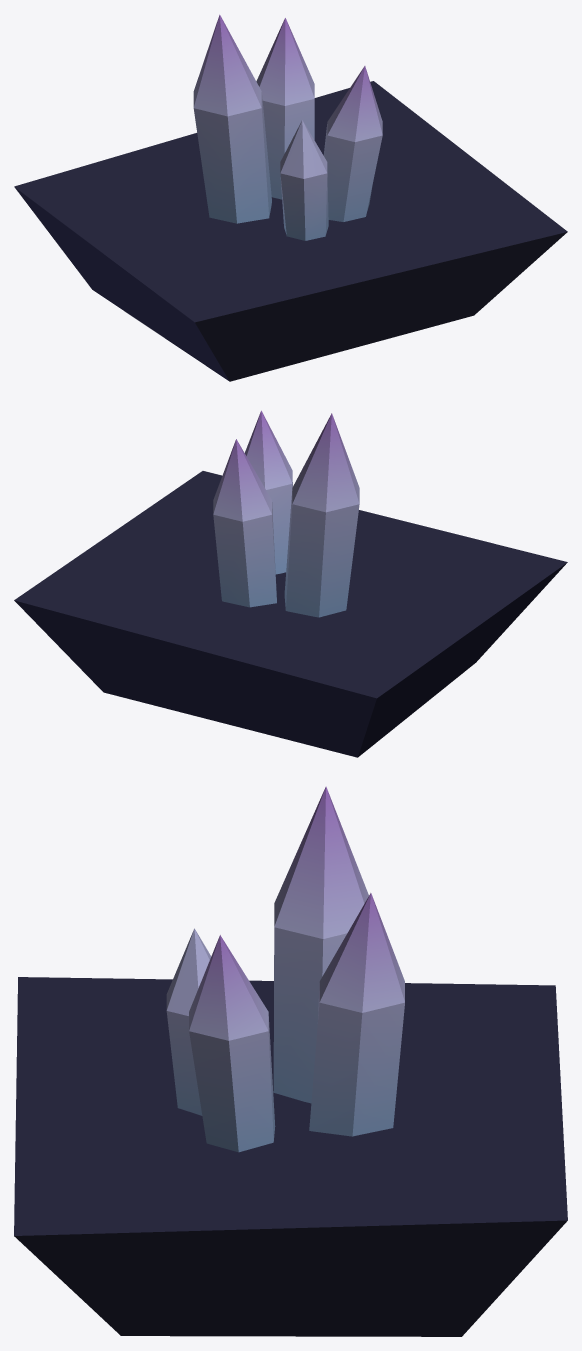
File: Rocks_Ore_Starite_v7_JaggedBluePurple.glb
3 renders of one model, top to bottom at view 1: azimuth 30°, elevation 25°; view 2: azimuth 150°, elevation 25°; view 3: azimuth 270°, elevation 25°, orthographic. The views are drawn at different scales.
Parts seen in each view (by area): view 1: v7; view 2: v7; view 3: v7.
Boxes of the visible parts, x1,y1,x2,y2 form: v7: (14, 14, 567, 381); v7: (14, 410, 567, 757); v7: (14, 786, 567, 1336).
Bounding box in the file's own units: 1.92 × 1.45 × 1.73.
